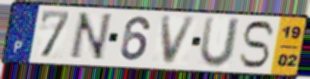6: (119, 15, 152, 63)
7: (39, 9, 73, 60)
N: (65, 11, 114, 63)
S: (237, 19, 277, 70)
U: (197, 15, 243, 70)
V: (159, 15, 199, 67)
